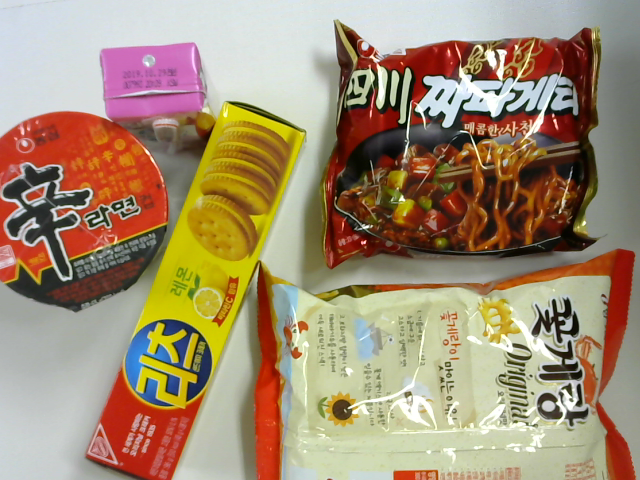Crabrang: (247, 258, 629, 480)
Ritz_Remon_96g: (83, 104, 305, 480)
Sichuan_Chapaghetti: (311, 16, 605, 272)
Sinramen_small: (1, 108, 163, 310)
Strawberry_E_Mong: (97, 34, 219, 156)
